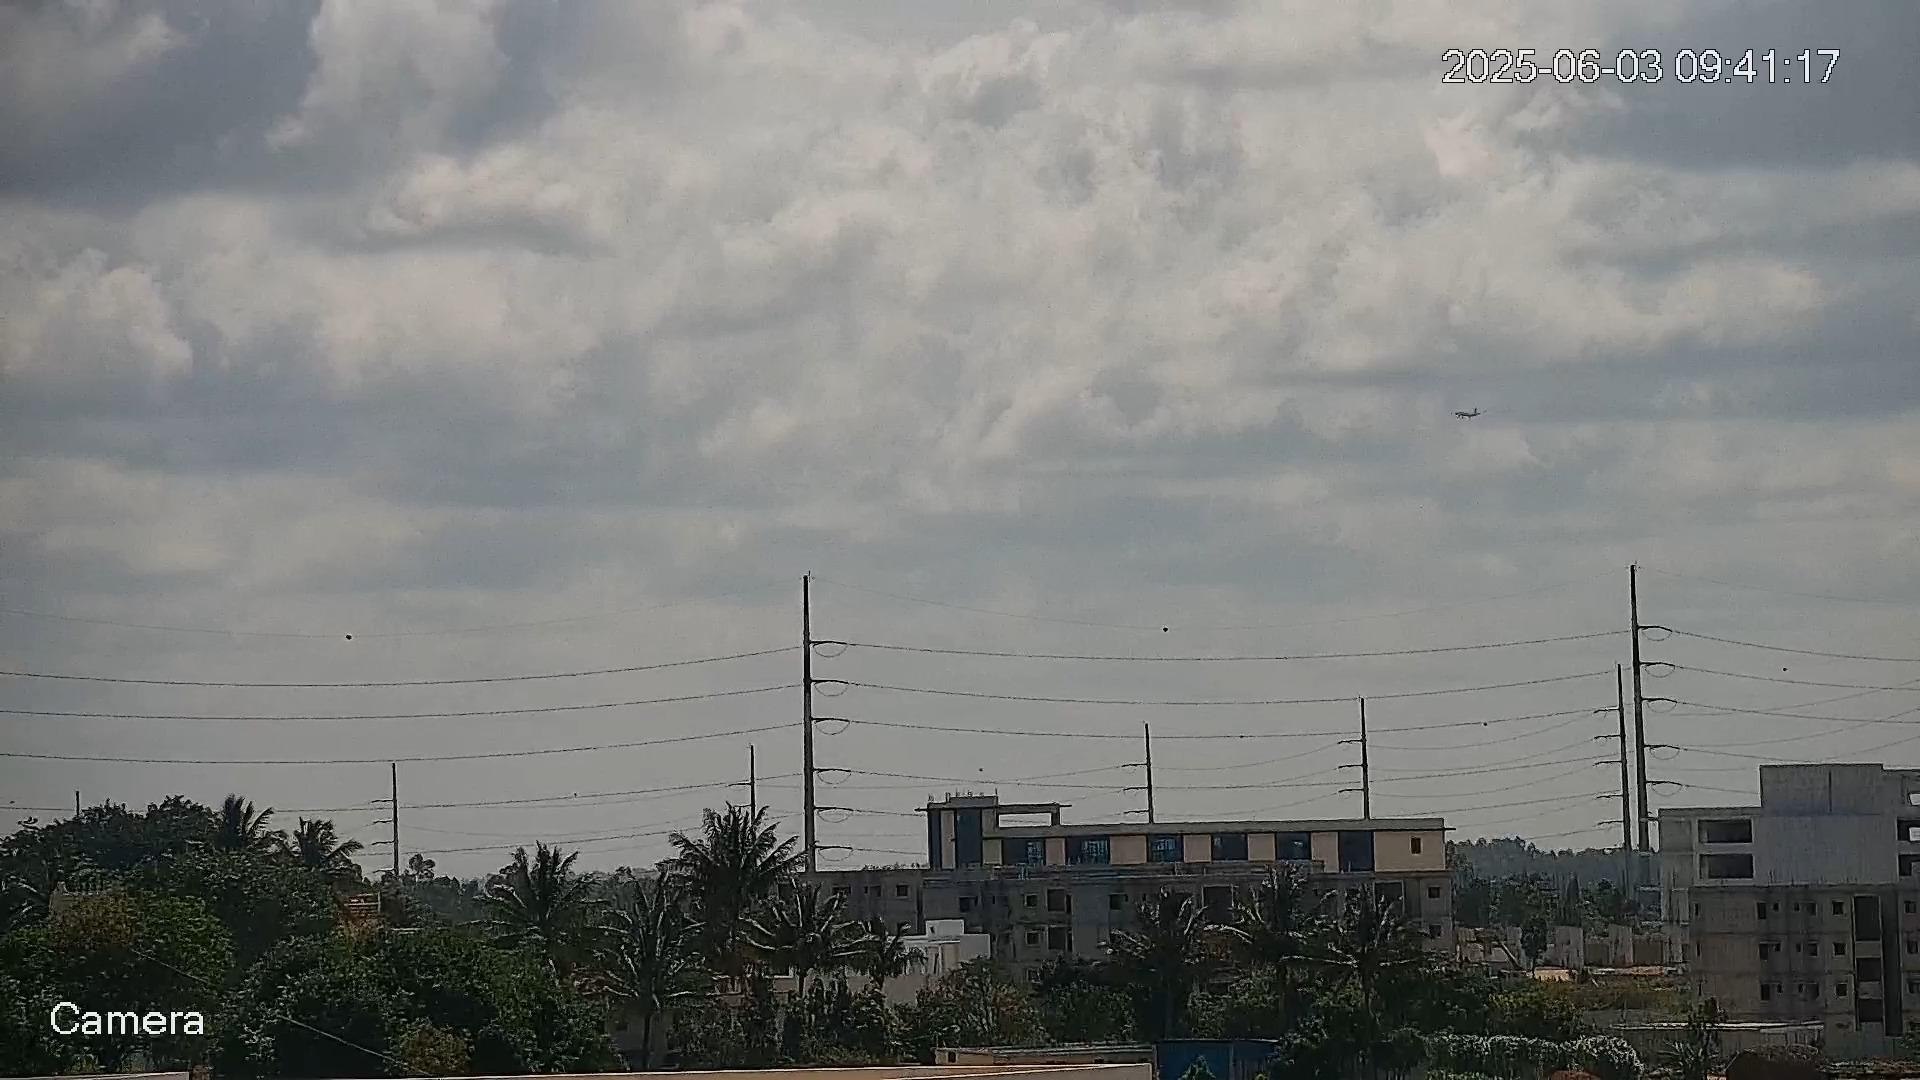Aircraft: (1452, 407, 1485, 422)
